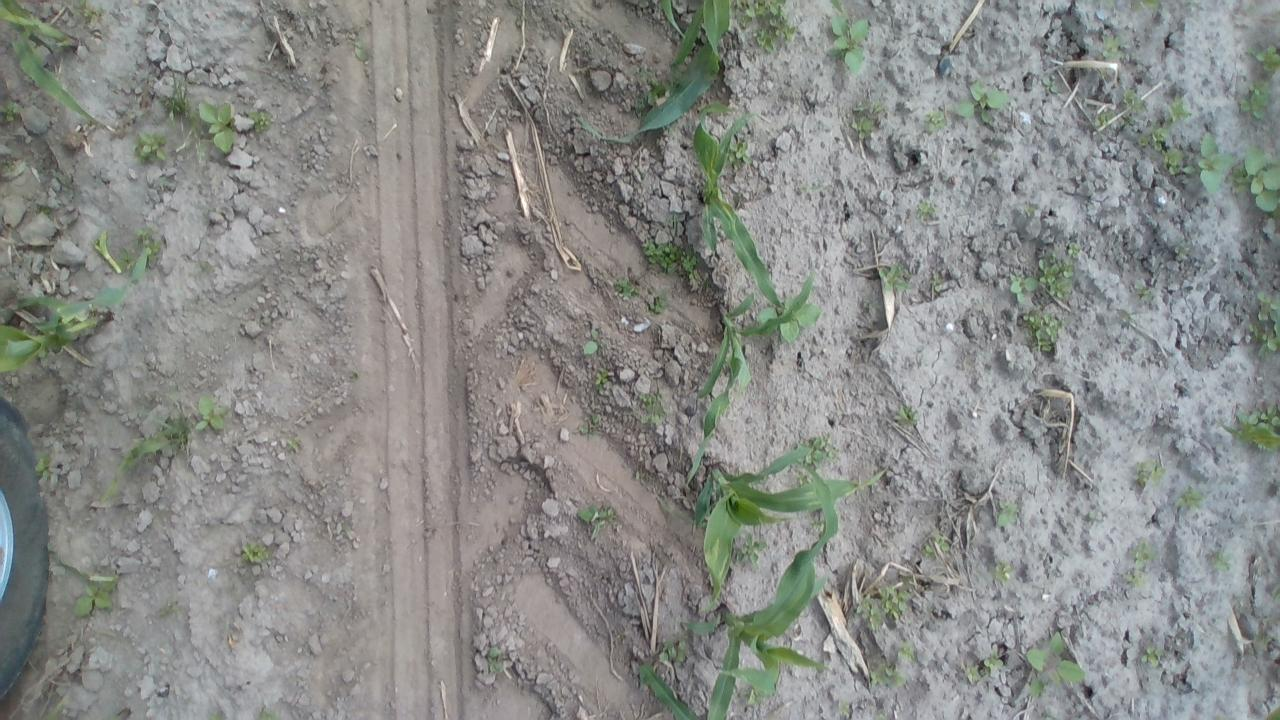Maize: (633, 463, 839, 718), (682, 256, 815, 490), (696, 445, 888, 599), (566, 1, 728, 141), (1, 241, 151, 382), (693, 107, 782, 316), (0, 1, 114, 137)
Weeds: (1026, 631, 1085, 695), (1233, 150, 1278, 216), (124, 424, 194, 466), (758, 300, 821, 342), (70, 574, 119, 622), (954, 78, 1004, 122), (744, 0, 790, 47), (831, 16, 872, 68), (1194, 130, 1228, 190), (1018, 312, 1068, 352), (860, 588, 912, 626), (200, 101, 237, 154), (1250, 290, 1280, 354), (1232, 408, 1280, 448), (642, 240, 696, 274), (1040, 255, 1076, 298), (577, 504, 613, 536), (195, 397, 226, 434), (235, 534, 272, 564), (1134, 456, 1166, 490), (852, 100, 884, 134), (1235, 90, 1271, 120), (737, 534, 767, 570), (1007, 272, 1038, 304), (137, 132, 169, 160), (638, 390, 666, 422), (156, 88, 188, 114), (1166, 144, 1190, 178), (659, 642, 693, 666), (811, 432, 838, 461), (1093, 32, 1123, 58), (1114, 88, 1142, 115), (0, 90, 22, 124), (1206, 549, 1234, 575), (1163, 95, 1191, 121), (1137, 121, 1163, 148), (1255, 42, 1277, 73), (612, 274, 642, 296), (730, 140, 751, 171), (894, 405, 920, 428), (645, 78, 668, 104), (1176, 486, 1200, 510), (36, 452, 58, 478), (884, 262, 906, 288), (582, 328, 603, 354), (925, 112, 949, 134), (992, 559, 1014, 583), (254, 105, 272, 134), (998, 502, 1018, 528), (1134, 537, 1153, 564), (984, 650, 1004, 673), (1122, 567, 1144, 587), (648, 292, 668, 314), (1142, 646, 1162, 667), (1136, 281, 1154, 304), (592, 369, 612, 388), (916, 199, 934, 219), (897, 642, 914, 663), (962, 664, 979, 684), (1134, 0, 1161, 12), (1042, 77, 1059, 96), (930, 272, 944, 294), (1174, 244, 1192, 261), (1068, 241, 1083, 261), (1021, 199, 1038, 216)
